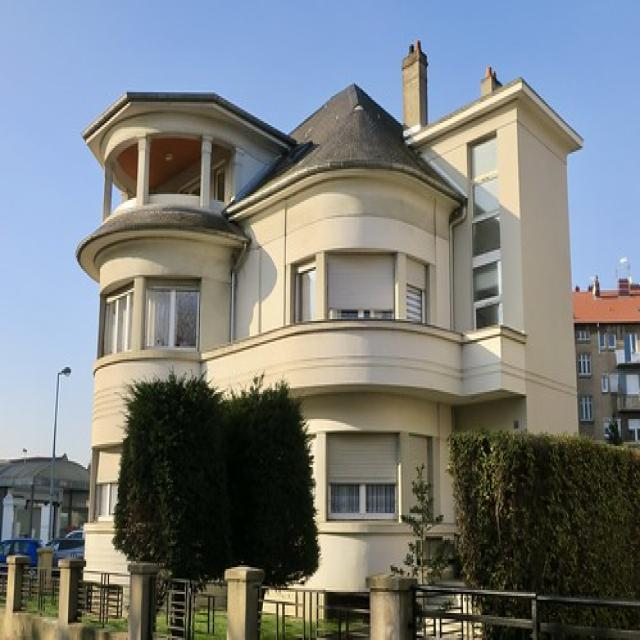building: (71, 36, 587, 604)
